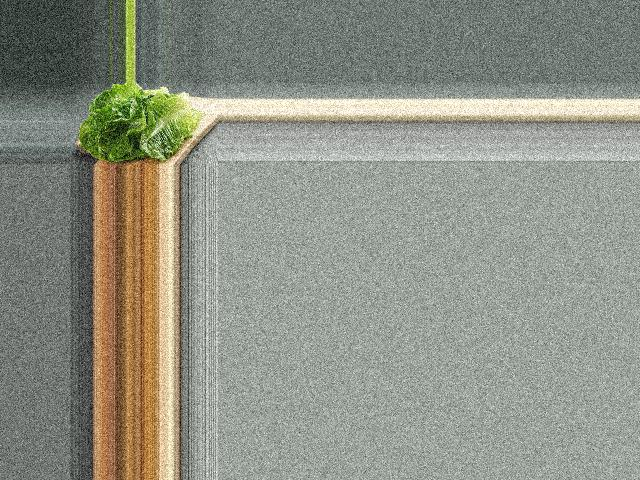lettuce: (75, 83, 199, 165)
